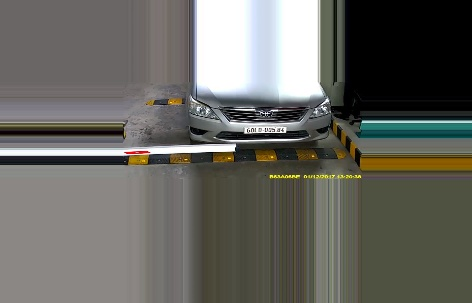plate: (243, 124, 287, 136)
